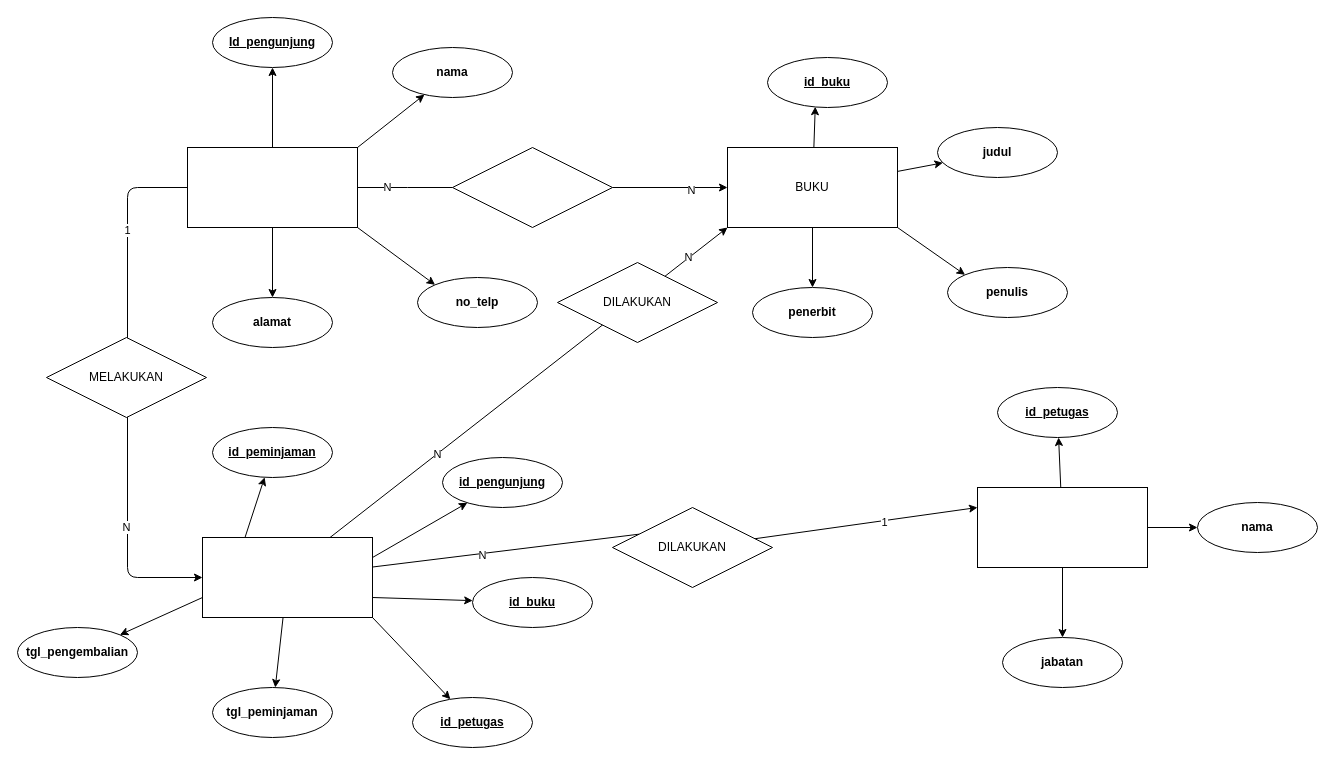
The diagram is 1335 pixels wide and 765 high, and some of its shapes have lost their labels. Each missing label, with the centre of its shape:
"MEMILIH" goes at [532,187].
"PEMINJAMAN" goes at [287,577].
"PENGUNJUNG" goes at [272,187].
"PETUGAS" goes at [1062,527].
